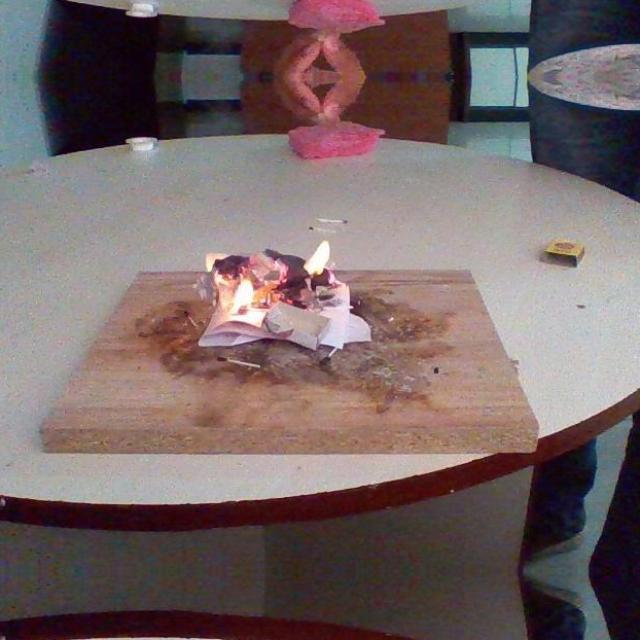smoke: (297, 241, 339, 280), (227, 278, 260, 322)
